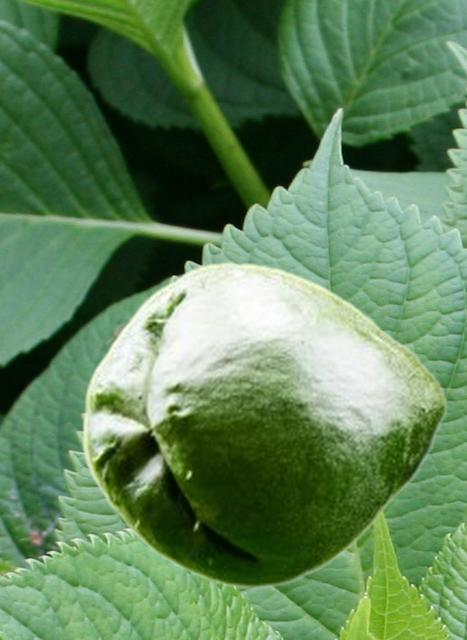sayote: (81, 261, 447, 588)
